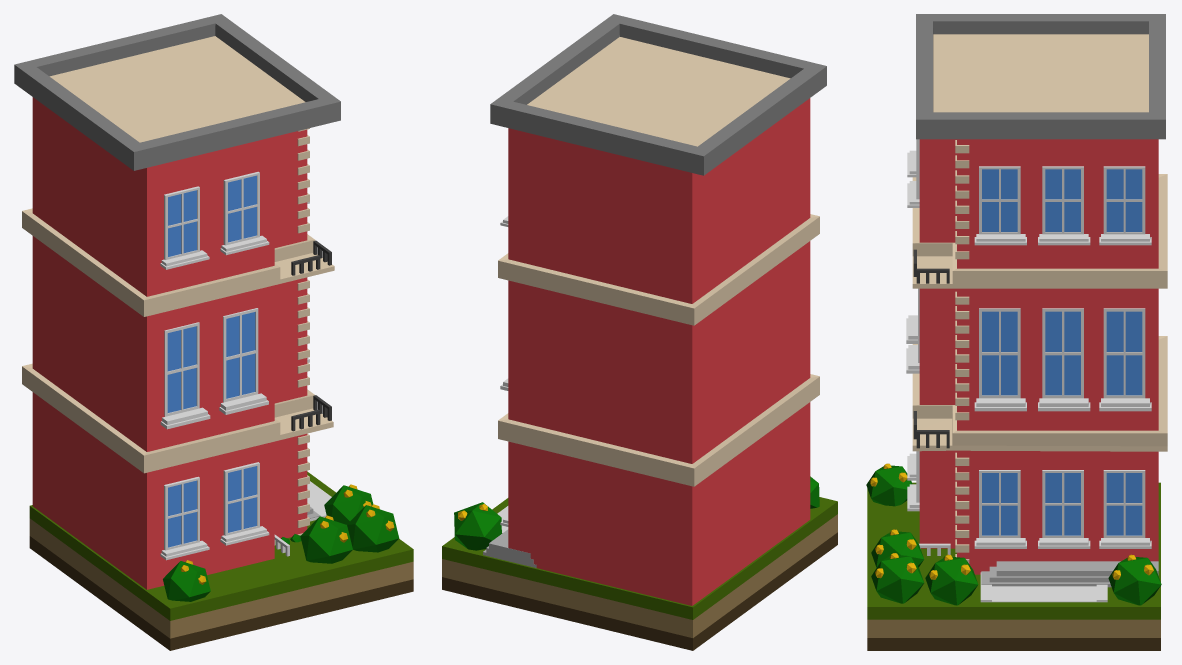
Rendered from apartment_merge.fbx.
The picture shows the model from 3 angles, left to right: view 1: azimuth 30°, elevation 25°; view 2: azimuth 150°, elevation 25°; view 3: azimuth 270°, elevation 25°; orthographic projection. The views are drawn at different scales.
Parts seen in each view (by area): view 1: apartment; view 2: apartment; view 3: apartment.
Boxes of the visible parts, x1,y1,x2,y2 form: apartment: (14, 14, 413, 650); apartment: (442, 14, 837, 650); apartment: (866, 14, 1167, 650).
Bounding box in the file's own units: 219 × 396 × 214.
